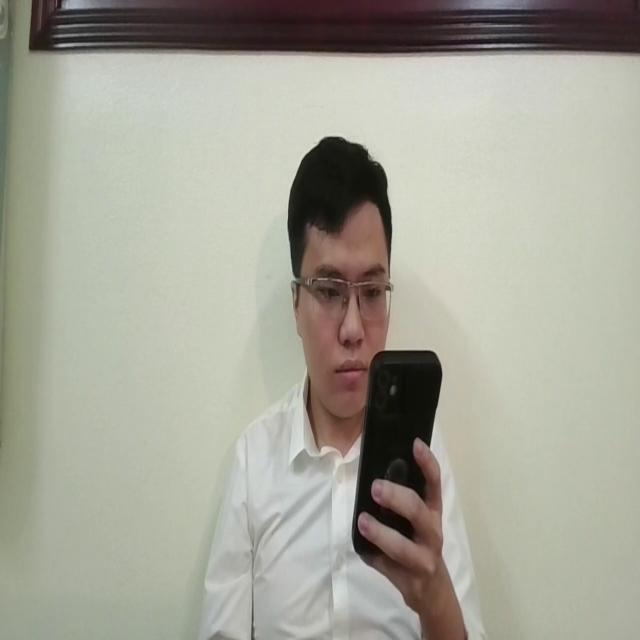phone: (347, 345, 442, 566)
student: (199, 134, 487, 640)
